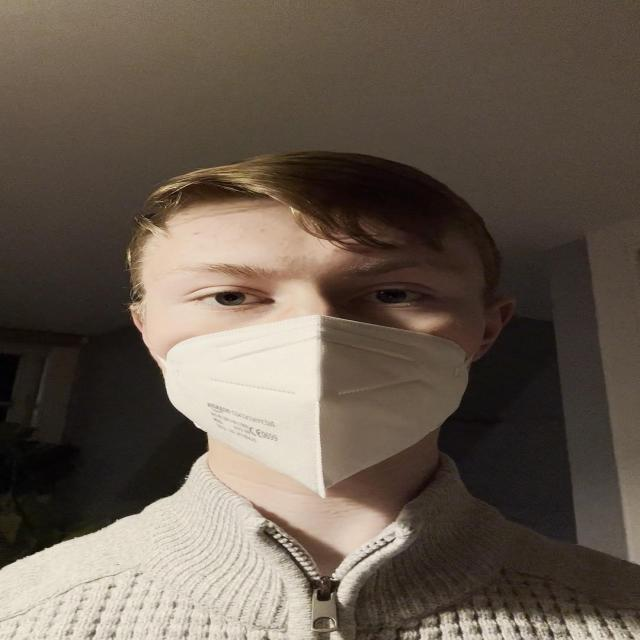no hat: (133, 175, 500, 496)
